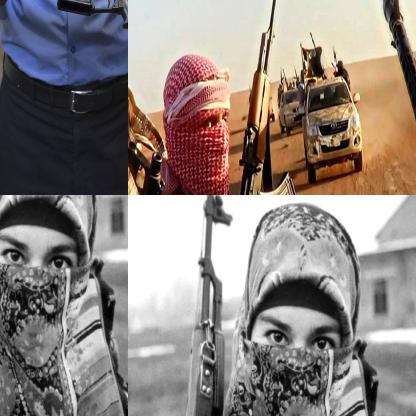rifle: (128, 195, 236, 415), (229, 0, 297, 194), (0, 0, 127, 55)
